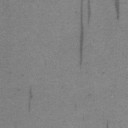red iron: (79, 0, 84, 68), (28, 86, 33, 112), (114, 0, 120, 20), (88, 0, 91, 24), (106, 120, 109, 128)
